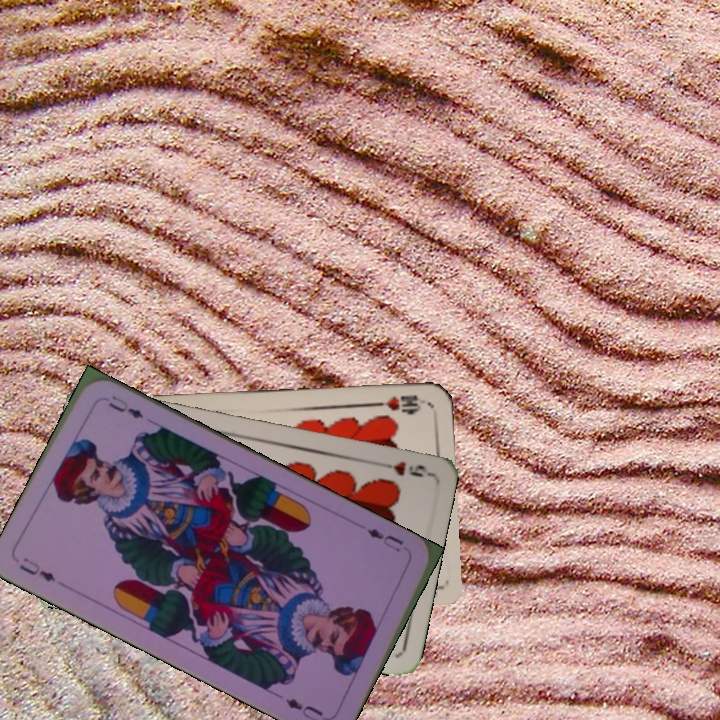EU: (15, 553, 58, 585), (362, 524, 406, 555)
H10: (370, 391, 423, 415)
H9: (373, 457, 432, 480)
